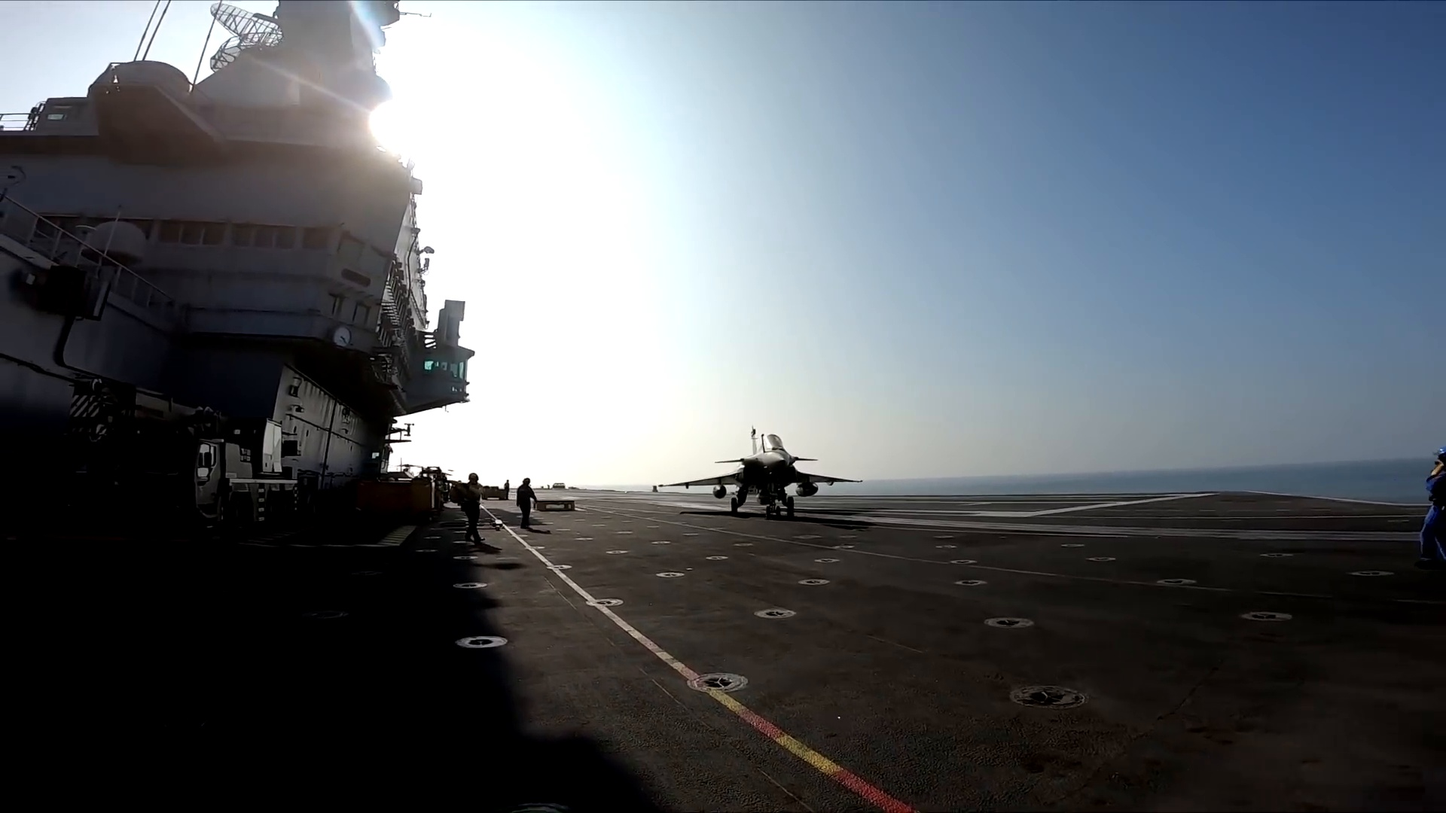Rafale: (654, 426, 864, 516)
